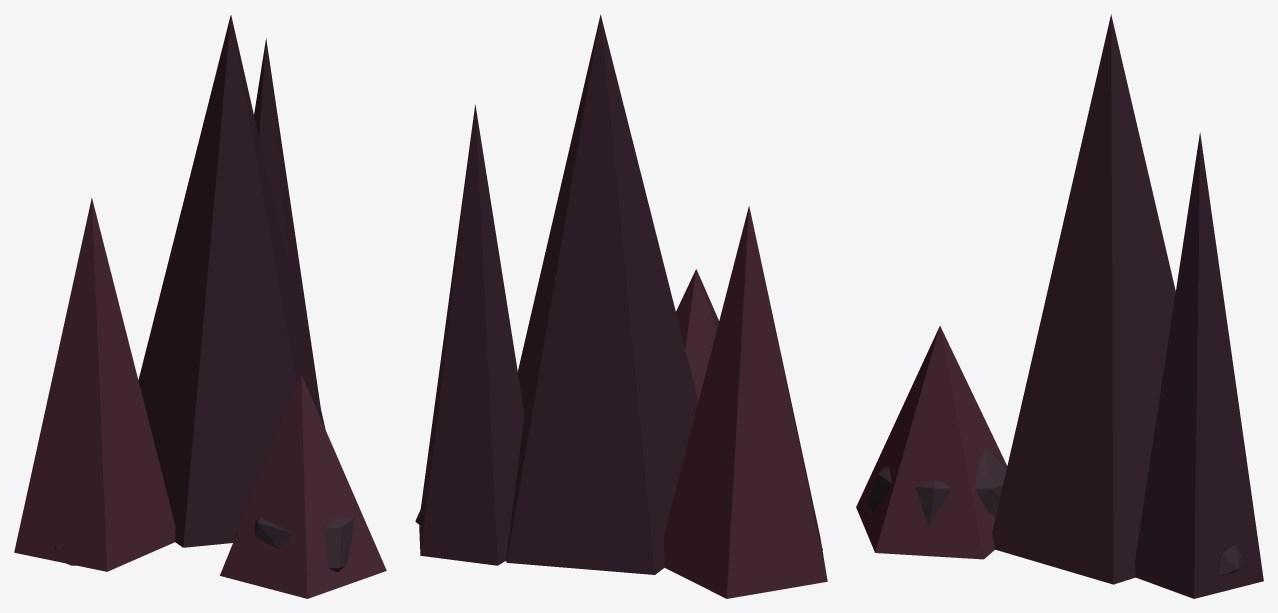
File: FSA_ENV_Arena_Spikes_01.glb
The picture shows the model from 3 angles, left to right: view 1: azimuth 30°, elevation 25°; view 2: azimuth 150°, elevation 25°; view 3: azimuth 270°, elevation 25°; orthographic projection. The views are drawn at different scales.
Parts seen in each view (by area): view 1: Spike_0, Spike_1, Spike_3, Spike_2, Basalt_3; view 2: Spike_0, Spike_1, Spike_2, Spike_3; view 3: Spike_0, Spike_2, Spike_3, Basalt_3.
Boxes of the visible parts, box(x1,y1,x2,y2) form: Spike_0: box(138, 15, 325, 547); Spike_1: box(14, 198, 175, 571); Spike_3: box(220, 374, 386, 598); Spike_2: box(254, 38, 320, 406); Basalt_3: box(234, 517, 355, 571); Spike_0: box(506, 14, 698, 574); Spike_1: box(663, 206, 827, 598); Spike_2: box(419, 105, 524, 565); Spike_3: box(676, 269, 719, 400); Spike_0: box(992, 14, 1175, 584); Spike_2: box(1135, 132, 1263, 598); Spike_3: box(856, 326, 1007, 559); Basalt_3: box(865, 448, 1006, 527).
Size of what is drawn, in the model's own units: 2.05 by 2.76 by 1.95.
